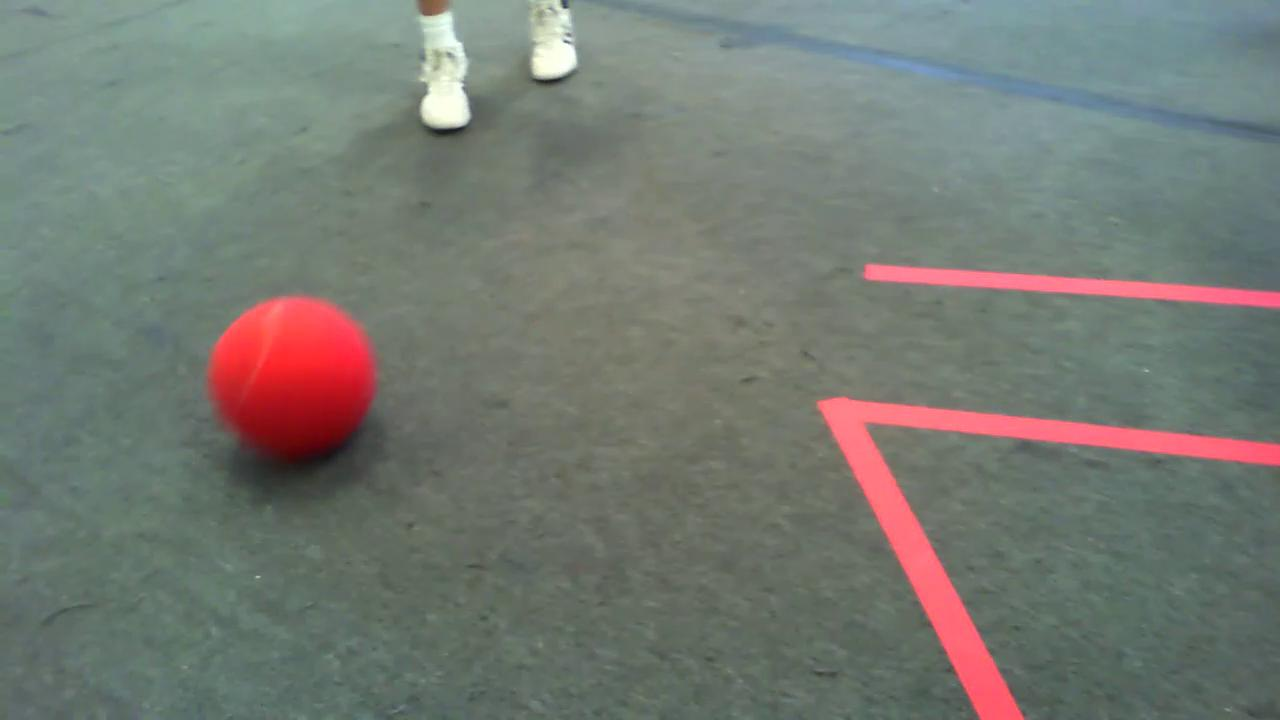Red_Ball: (166, 277, 399, 466)
